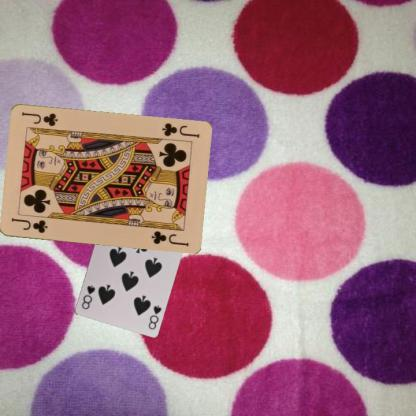8s: (146, 302, 162, 331)
Jc: (8, 215, 49, 235), (159, 121, 200, 139)
